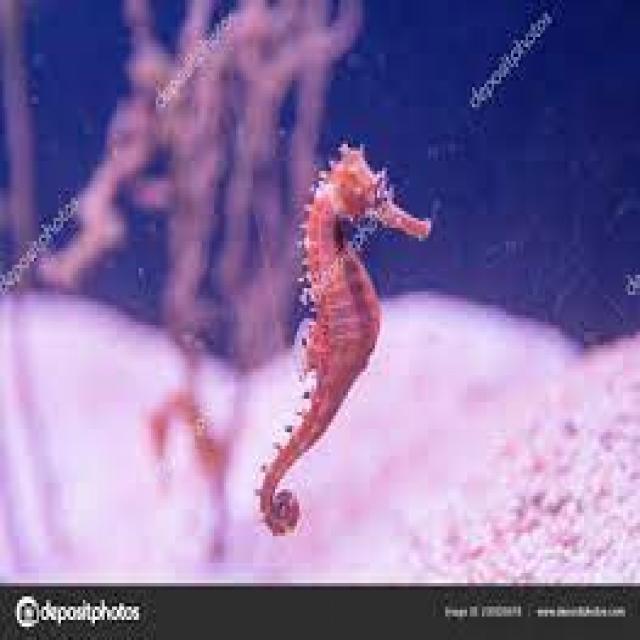SeaHorse: (258, 148, 436, 536)
